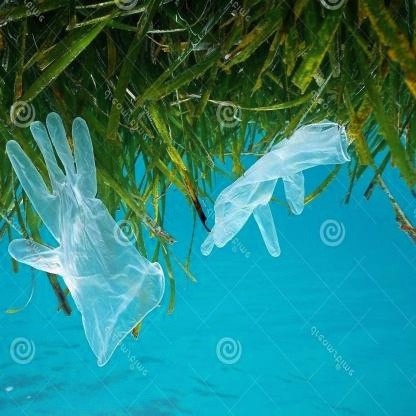glove: (0, 113, 173, 370), (202, 122, 352, 272)
